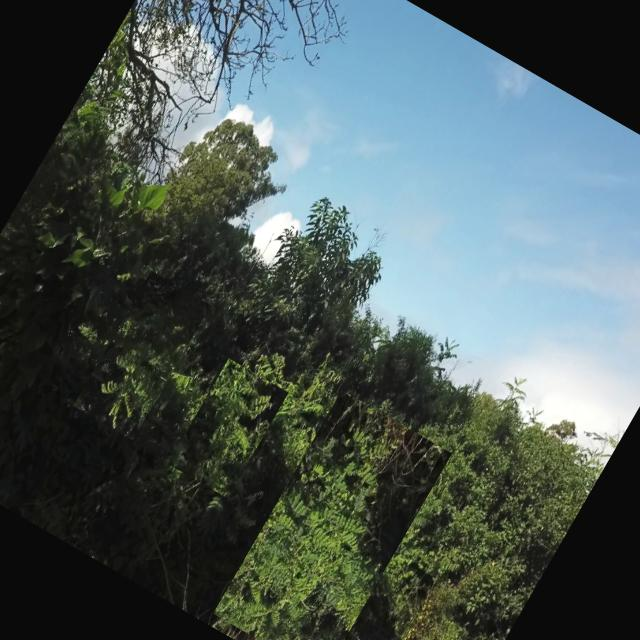Mysore-Thorn-Weed: (213, 390, 452, 640), (72, 272, 210, 440), (167, 359, 288, 499)
